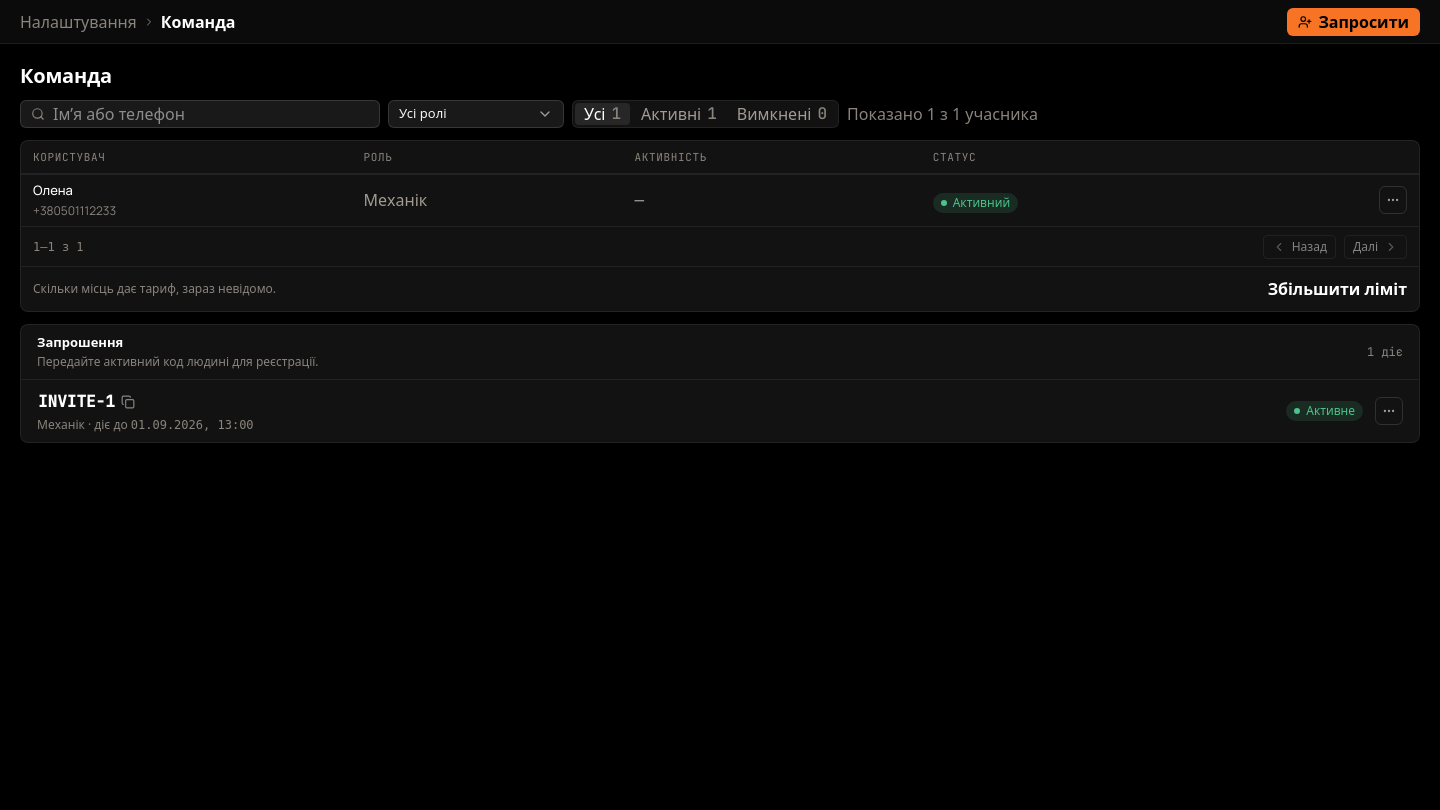
Test: shows a clipboard failure without claiming that the invitation was copied
Click the button with aria-label "Копіювати код запрошення INVITE-1" at (86, 402), box top-left (37, 388), bottom-right (136, 416)
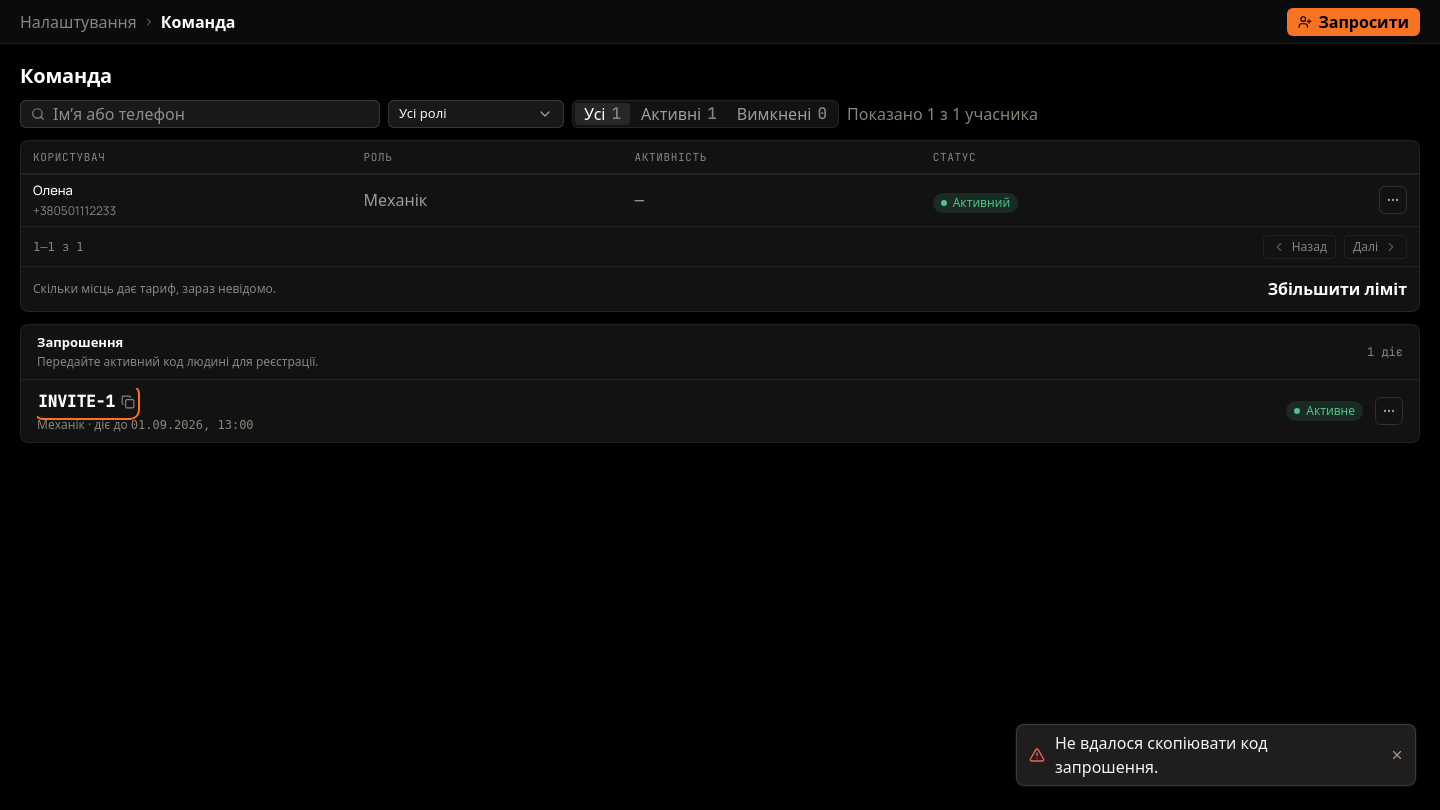
Result: the message reads "Не вдалося скопіювати код запрошення." at top-left (1055, 732), bottom-right (1268, 778)
